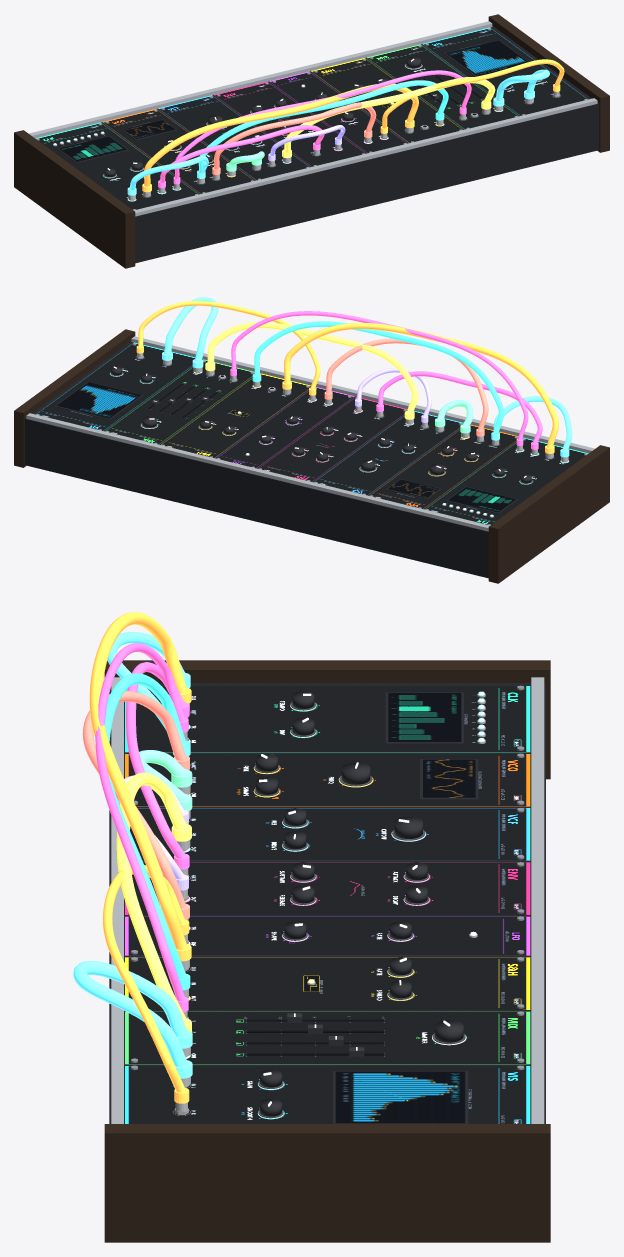
Rendered from hero.glb.
3 views of the same model, one above another, from view 1: azimuth 30°, elevation 25°; view 2: azimuth 150°, elevation 25°; view 3: azimuth 270°, elevation 25° (orthographic). The views are drawn at different scales.
Visible parts, largest first — view 1: Case_Body, Case_Cheek_0, Module_CLK_Face, Module_MIX_Face, Module_VIS_Face, Module_RND_Face, Module_FLT_Face, Module_ENV_Face, Case_Rail_Bot, Module_VCO_Face, Case_Rail_Top, Module_LFO_Face (+14 smaller); view 2: Case_Body, Case_Cheek_0, Module_RND_Face, Module_CLK_Face, Module_ENV_Face, Module_FLT_Face, Module_MIX_Face, Module_VIS_Face, Module_VCO_Face, Module_LFO_Face, Case_Rail_Top, Case_Rail_Bot (+15 smaller); view 3: Case_Cheek_1, Module_CLK_Face, Module_MIX_Face, Module_RND_Face, Module_FLT_Face, Module_ENV_Face, Module_VCO_Face, Module_VIS_Face, Module_LFO_Face, Case_Body, Case_Cheek_0, Screen_VIS (+14 smaller).
Boxes of the visible parts, left/top/right/bottom form: Case_Body: left=101, top=26, right=599, bottom=263; Case_Cheek_0: left=14, top=130, right=135, bottom=268; Module_CLK_Face: left=35, top=122, right=198, bottom=209; Module_MIX_Face: left=367, top=44, right=518, bottom=129; Module_VIS_Face: left=422, top=27, right=587, bottom=115; Module_RND_Face: left=311, top=58, right=462, bottom=142; Module_FLT_Face: left=158, top=95, right=309, bottom=180; Module_ENV_Face: left=214, top=81, right=365, bottom=166; Case_Rail_Bot: left=134, top=98, right=597, bottom=216; Module_VCO_Face: left=103, top=109, right=254, bottom=193; Case_Rail_Top: left=29, top=21, right=492, bottom=138; Module_LFO_Face: left=269, top=71, right=407, bottom=153; Case_Body: left=24, top=341, right=516, bottom=578; Case_Cheek_0: left=488, top=445, right=609, bottom=583; Module_RND_Face: left=161, top=373, right=310, bottom=457; Module_CLK_Face: left=425, top=437, right=588, bottom=524; Module_ENV_Face: left=258, top=396, right=407, bottom=481; Module_FLT_Face: left=314, top=411, right=463, bottom=495; Module_MIX_Face: left=105, top=359, right=254, bottom=444; Module_VIS_Face: left=36, top=342, right=195, bottom=430; Module_VCO_Face: left=369, top=424, right=518, bottom=508; Module_LFO_Face: left=216, top=387, right=354, bottom=468; Case_Rail_Top: left=26, top=413, right=489, bottom=531; Case_Rail_Bot: left=131, top=336, right=594, bottom=453; Case_Cheek_1: left=104, top=1124, right=550, bottom=1242; Module_CLK_Face: left=125, top=686, right=530, bottom=752; Module_MIX_Face: left=125, top=1011, right=530, bottom=1064; Module_RND_Face: left=125, top=957, right=530, bottom=1009; Module_FLT_Face: left=130, top=808, right=530, bottom=860; Module_ENV_Face: left=125, top=862, right=530, bottom=914; Module_VCO_Face: left=125, top=754, right=530, bottom=806; Module_VIS_Face: left=125, top=1066, right=530, bottom=1123; Module_LFO_Face: left=125, top=916, right=530, bottom=955; Case_Body: left=109, top=683, right=545, bottom=1123; Case_Cheek_0: left=104, top=660, right=550, bottom=779; Screen_VIS: left=335, top=1071, right=465, bottom=1123.
Size of the model in its own units: 1.2 by 0.2927 by 0.5137.
Materials: 52 (11 with a texture image).
